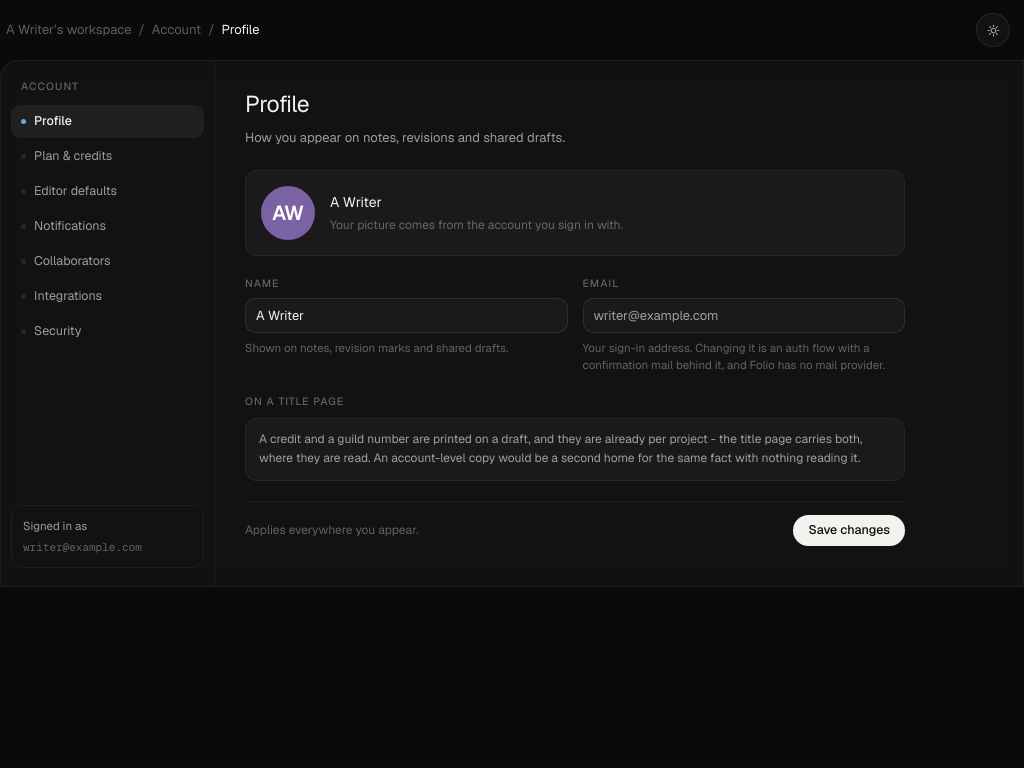
Test case: Apply proposals automatically › is off by default - review - and says what it never skips
The image size is (1024, 768).
Click the button "Editor defaults" at (108, 191), box [11,175,204,208]
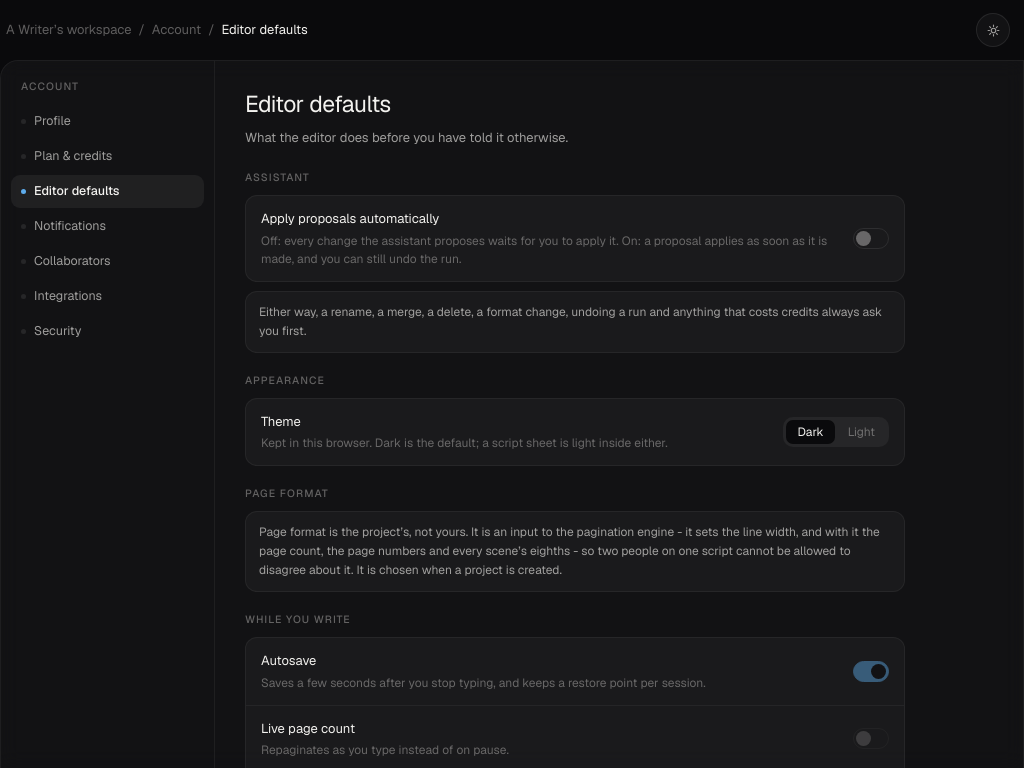
Check: the text "a rename, a merge, a delete, a format change, undoing a run and anything that costs credits always ask you first" is shown, box [259,304,882,339]
